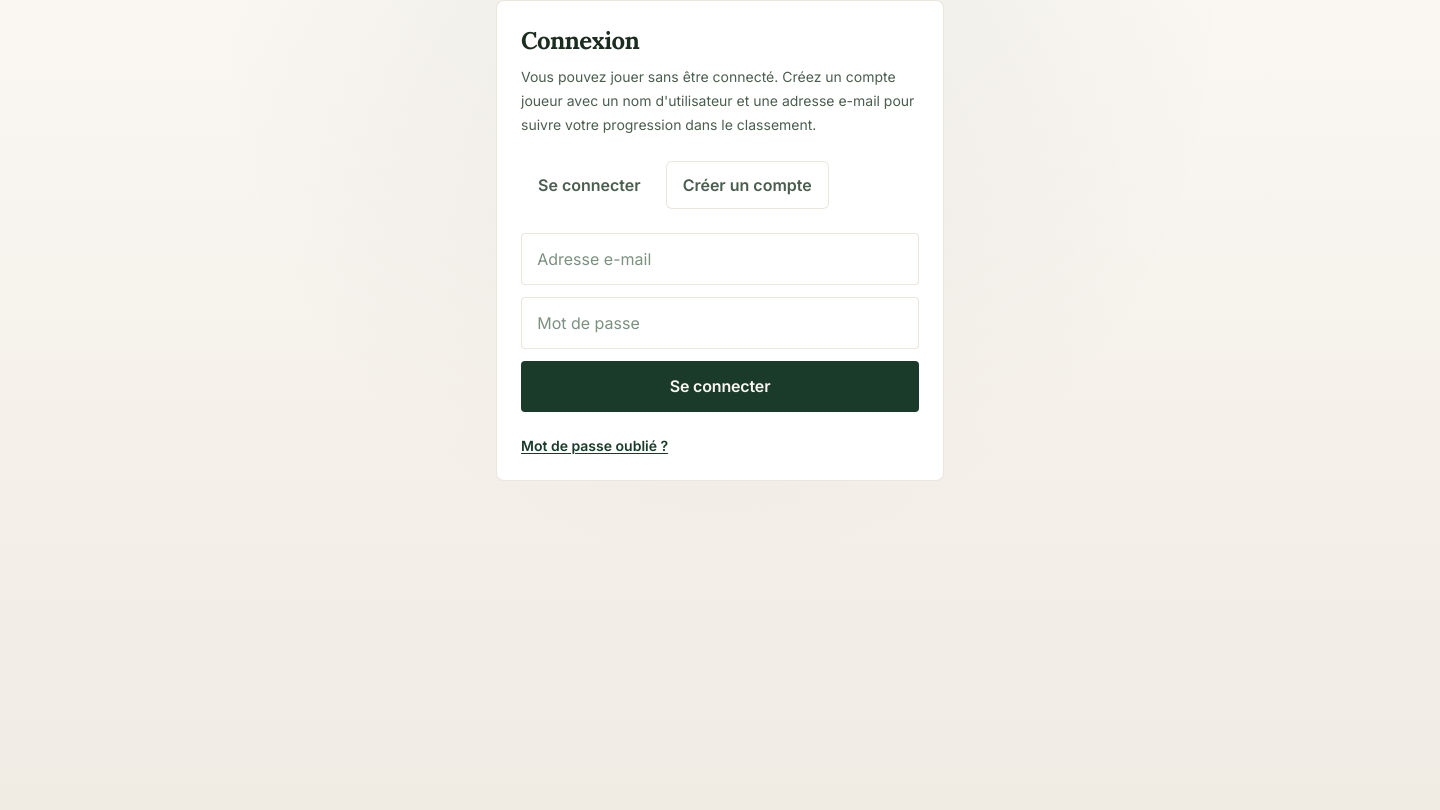
Test: AuthPage › displays error on failed register
Click the button "Créer un compte" at [747, 185], box [666, 161, 829, 209]
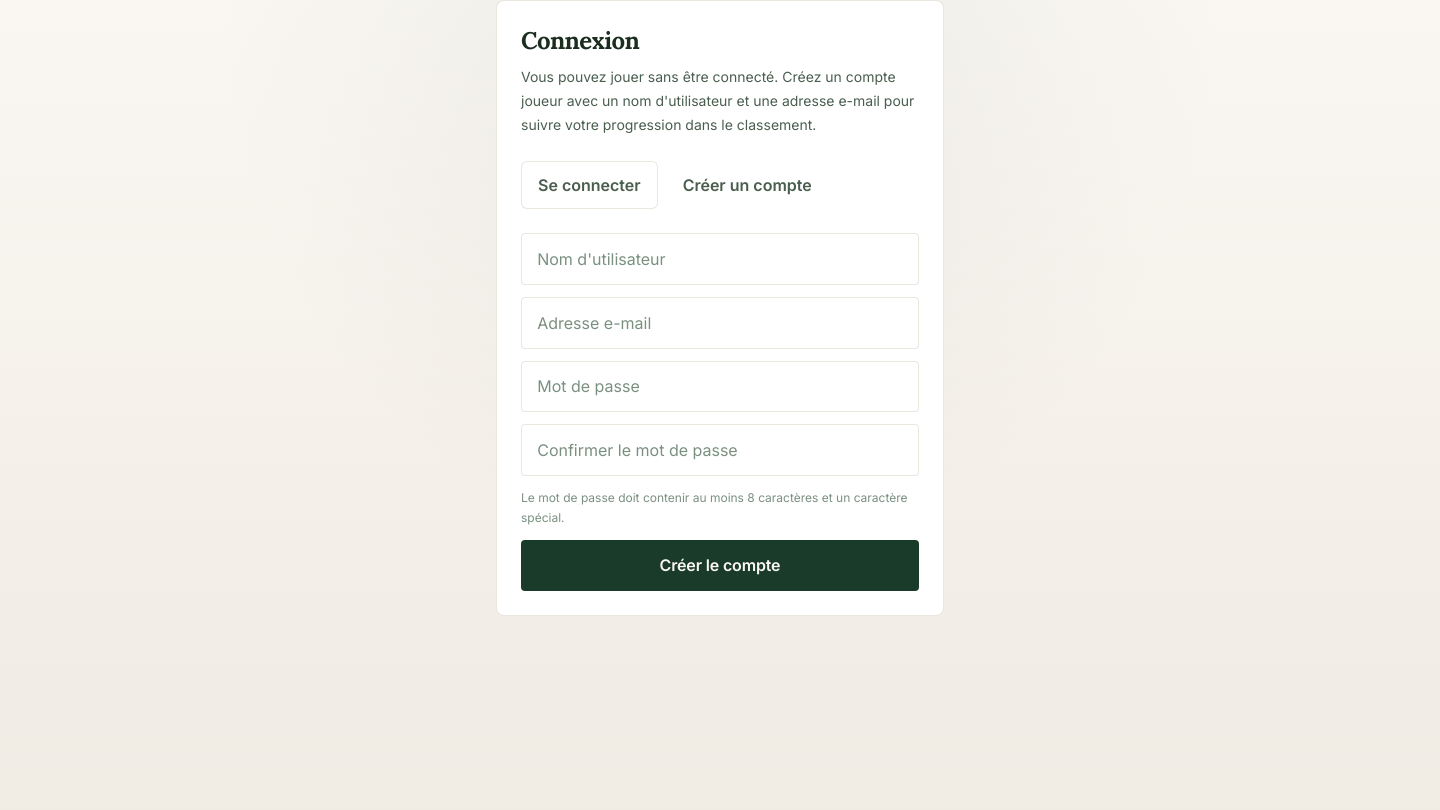
Type "existinguser" into the field with placeholder "Nom d'utilisateur" at [720, 259], box [521, 233, 919, 285]
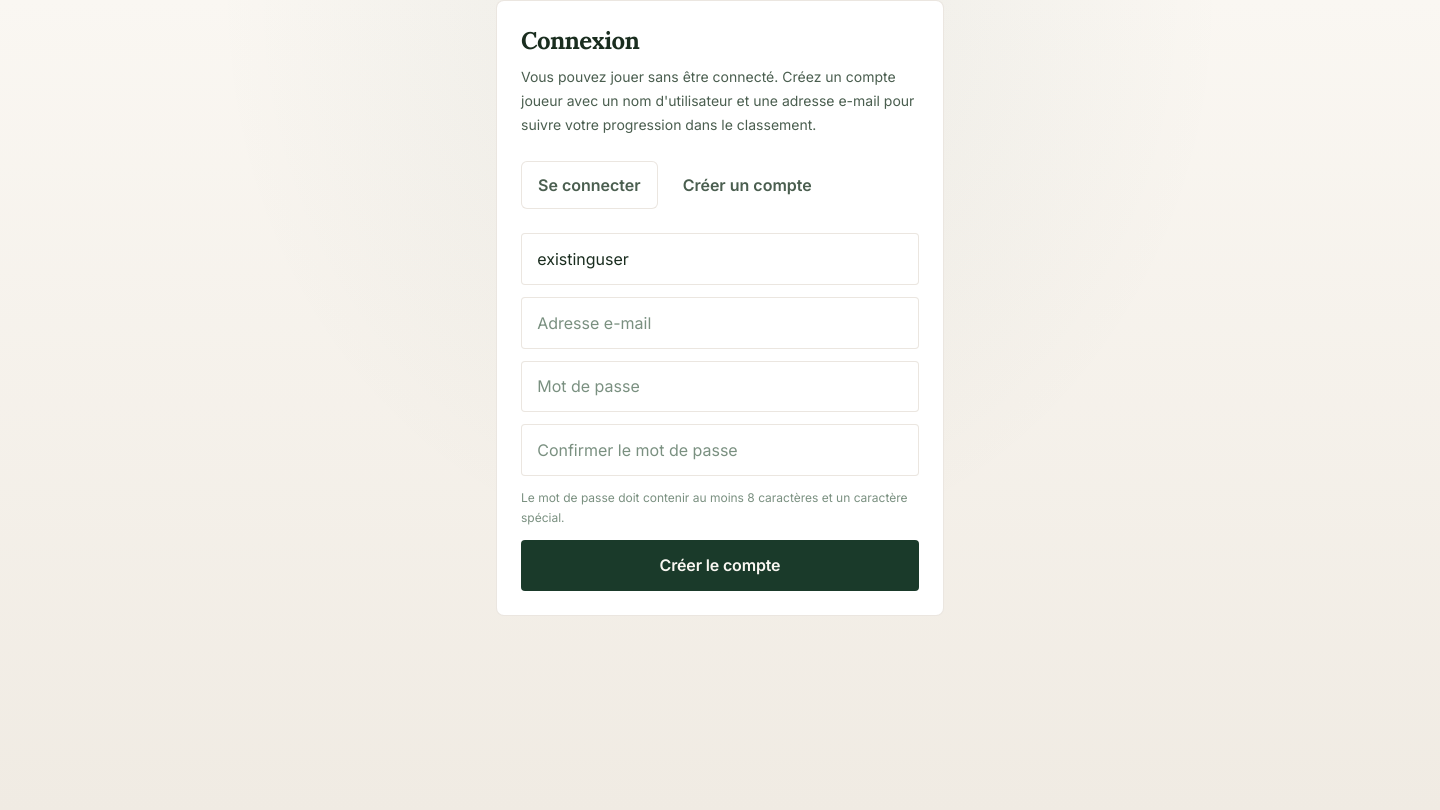
Type "existinguser@example.com" into the field with placeholder "Adresse e-mail" at [720, 323], box [521, 297, 919, 349]
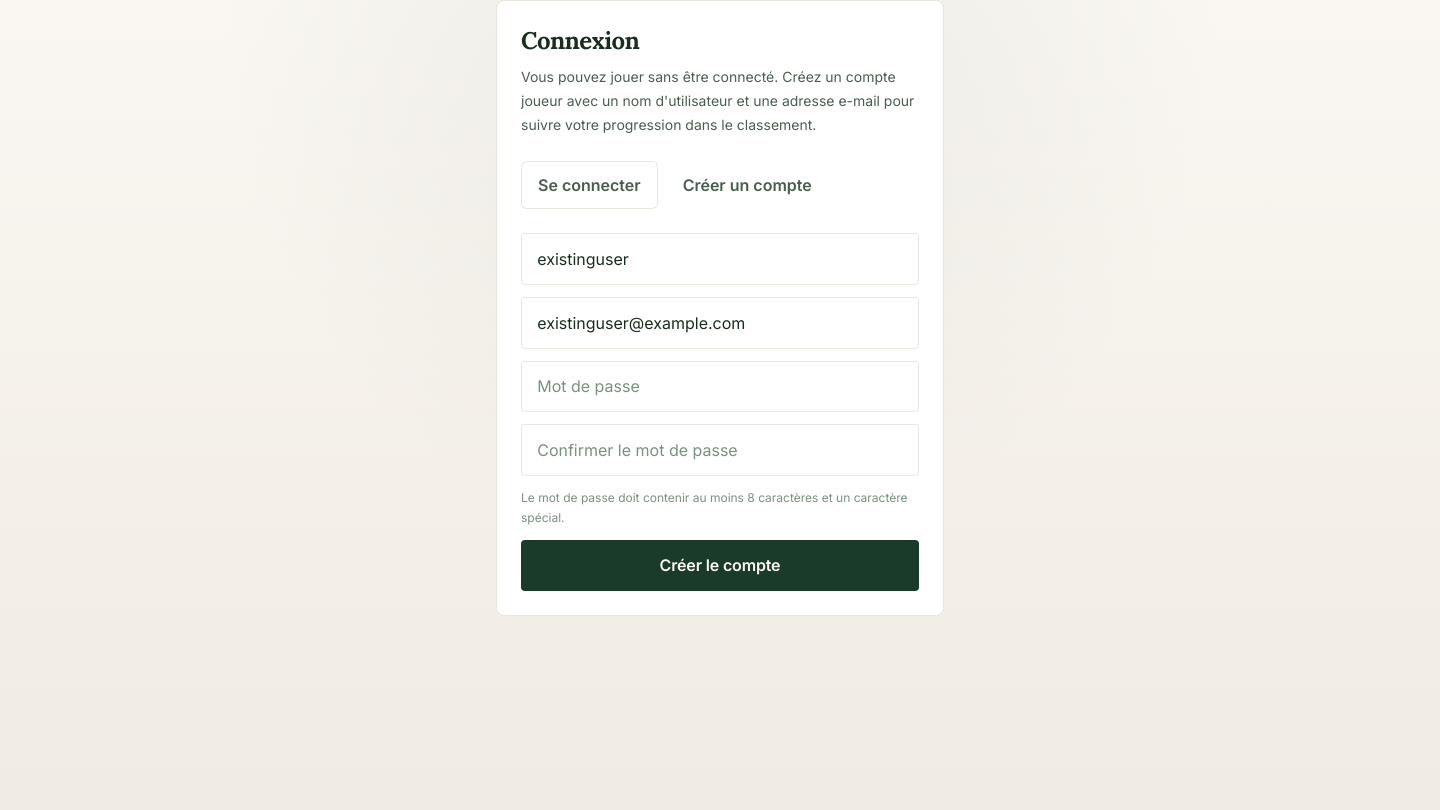
Type "password!" into the password field with placeholder "Mot de passe" at [720, 386], box [521, 361, 919, 412]
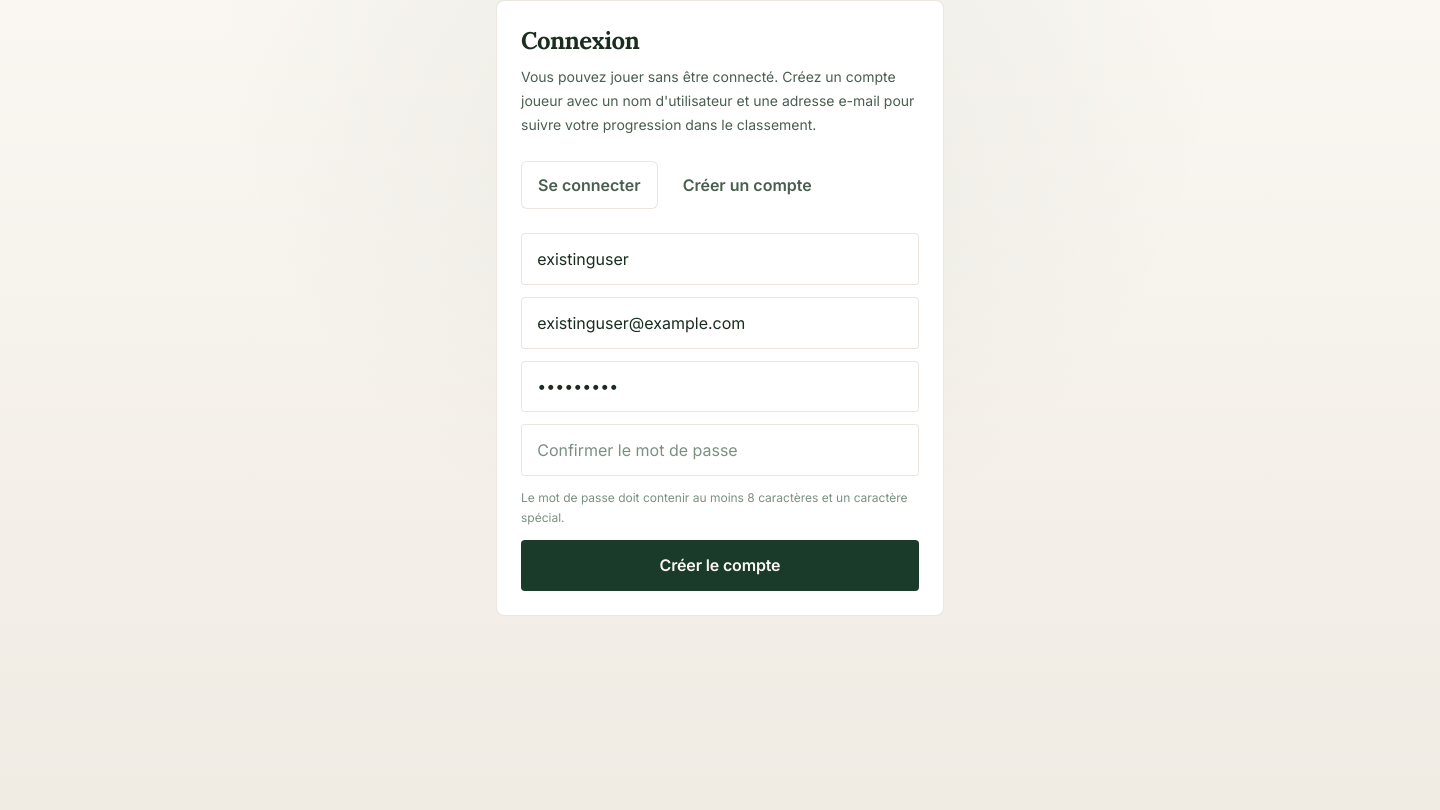
Type "password!" into the password field with placeholder "Confirmer le mot de passe" at [720, 450], box [521, 424, 919, 476]
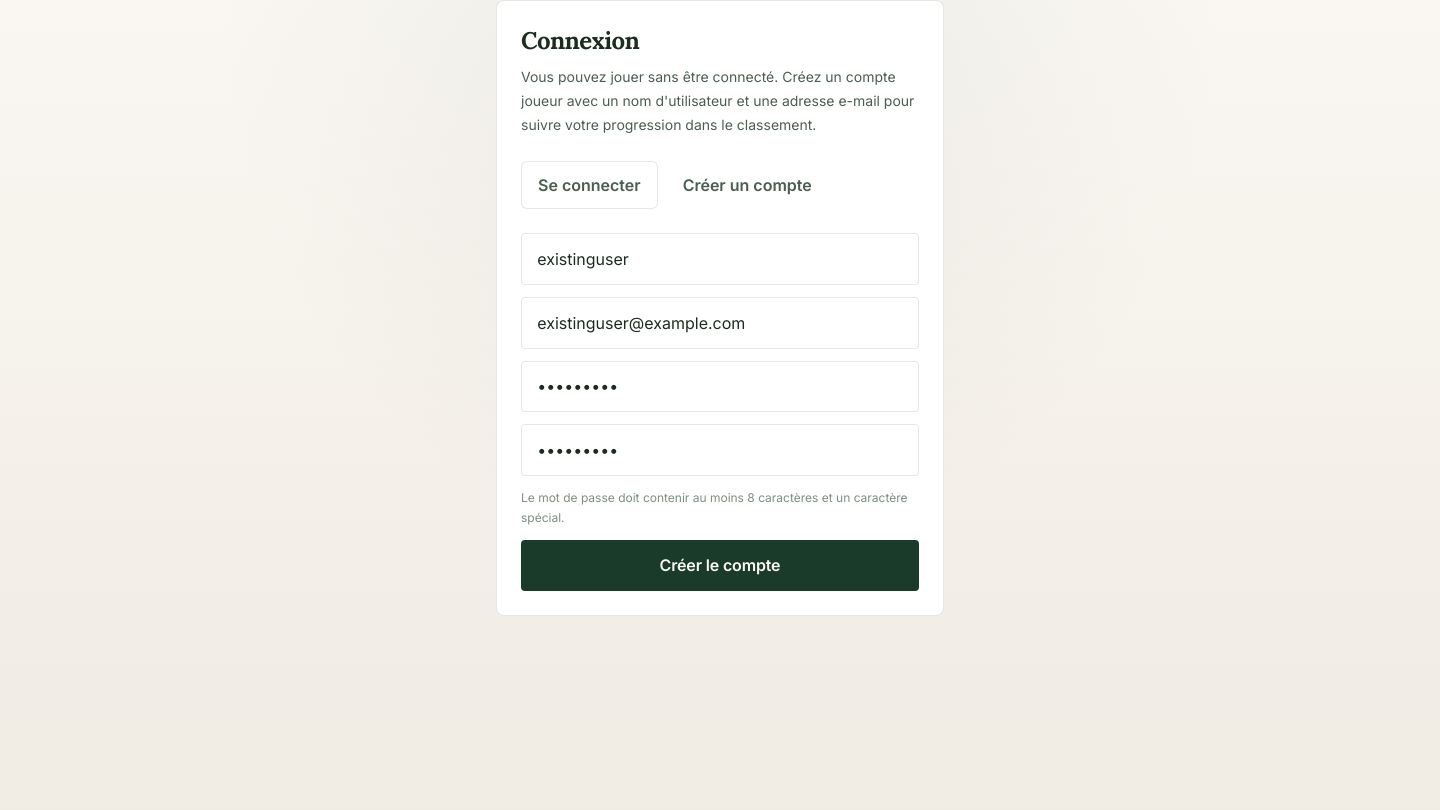
Click the button "Créer le compte" at [720, 565], box [521, 540, 919, 591]
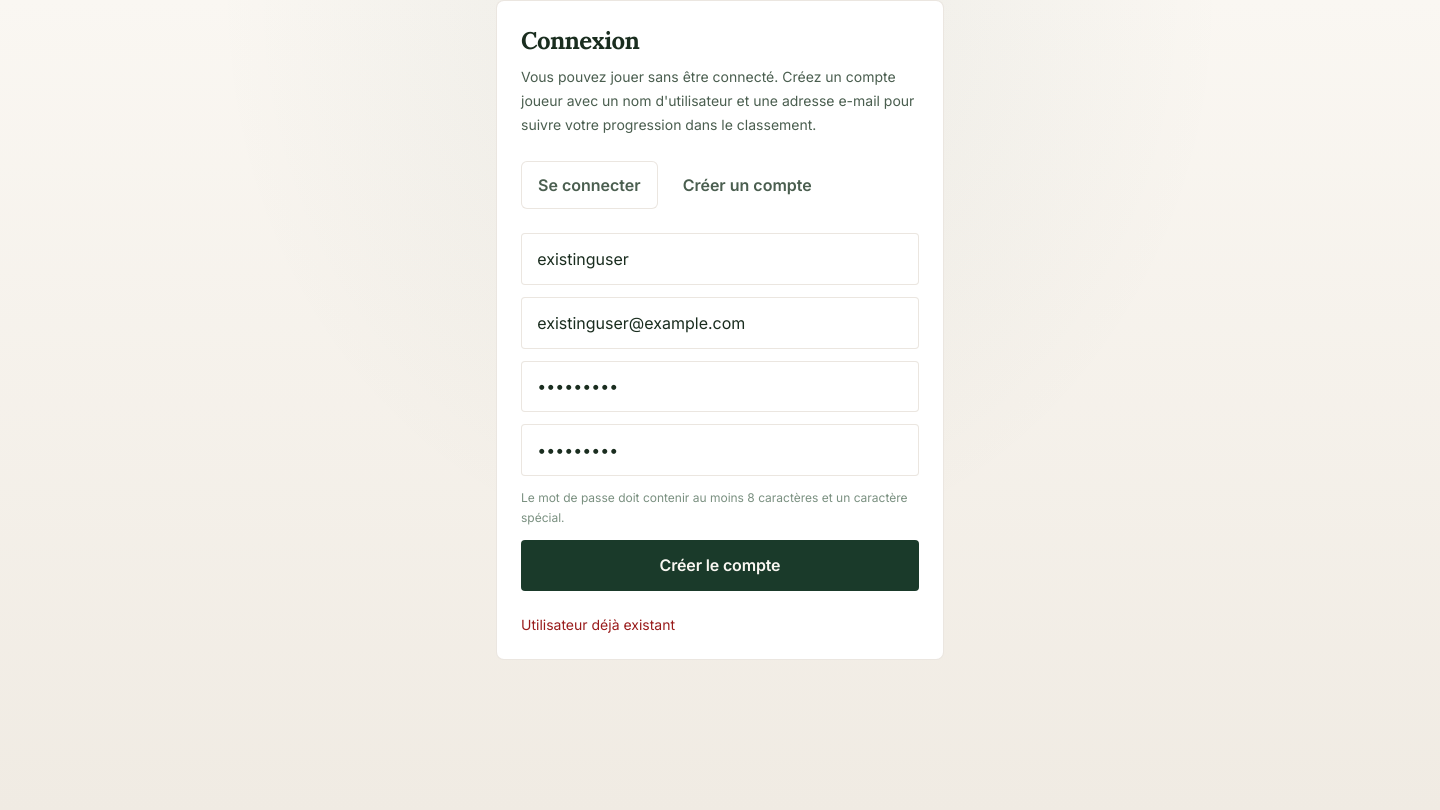
Check: the text "Utilisateur déjà existant" is shown, box [521, 616, 675, 633]
